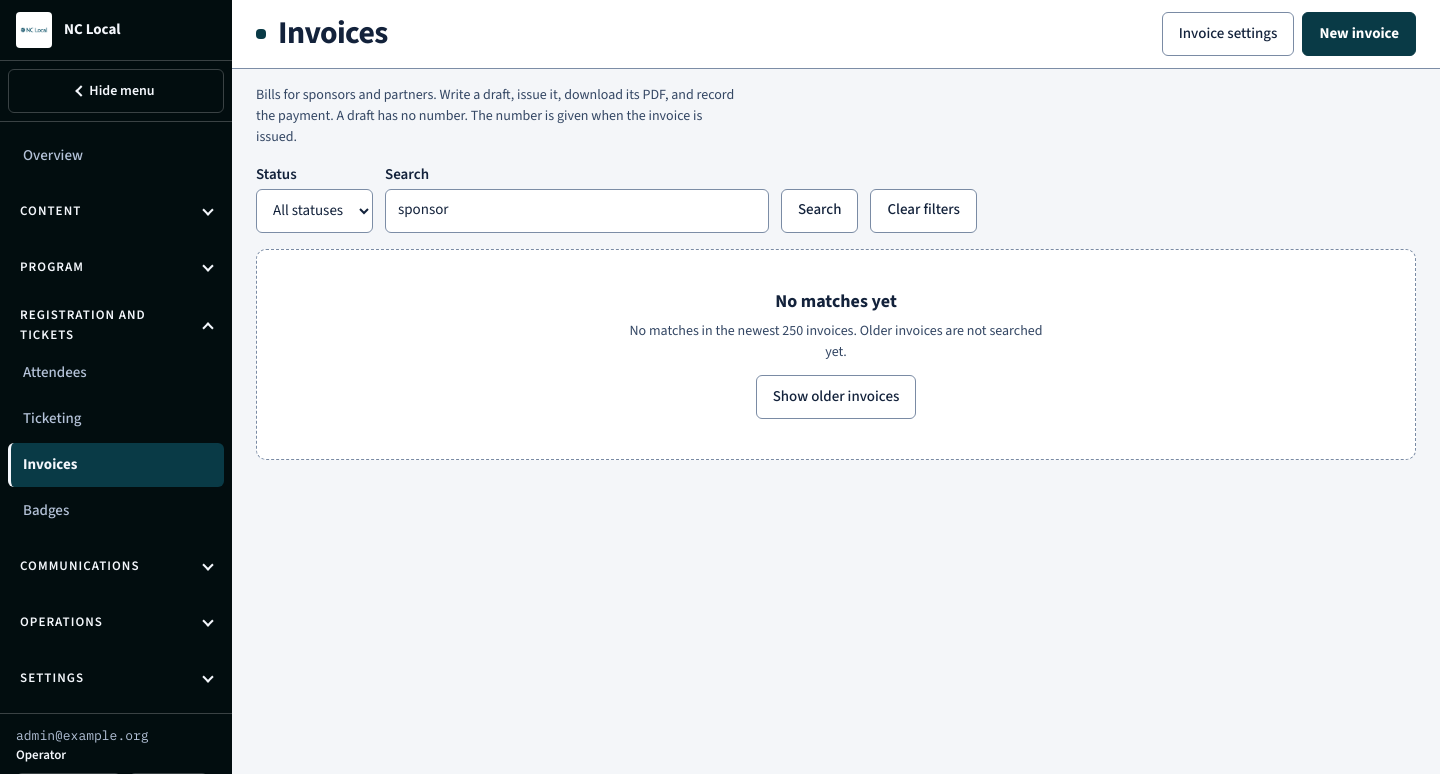
Test: the invoice list pages › keeps paging when a scan found no match but more invoices remain
This screenshot has width=1440, height=774.
Expected: the text "No matches in the newest 250 invoices" is shown, [630,321,1042,362]
Click the button "Show older invoices": {"x": 836, "y": 397} [756,375,916,419]
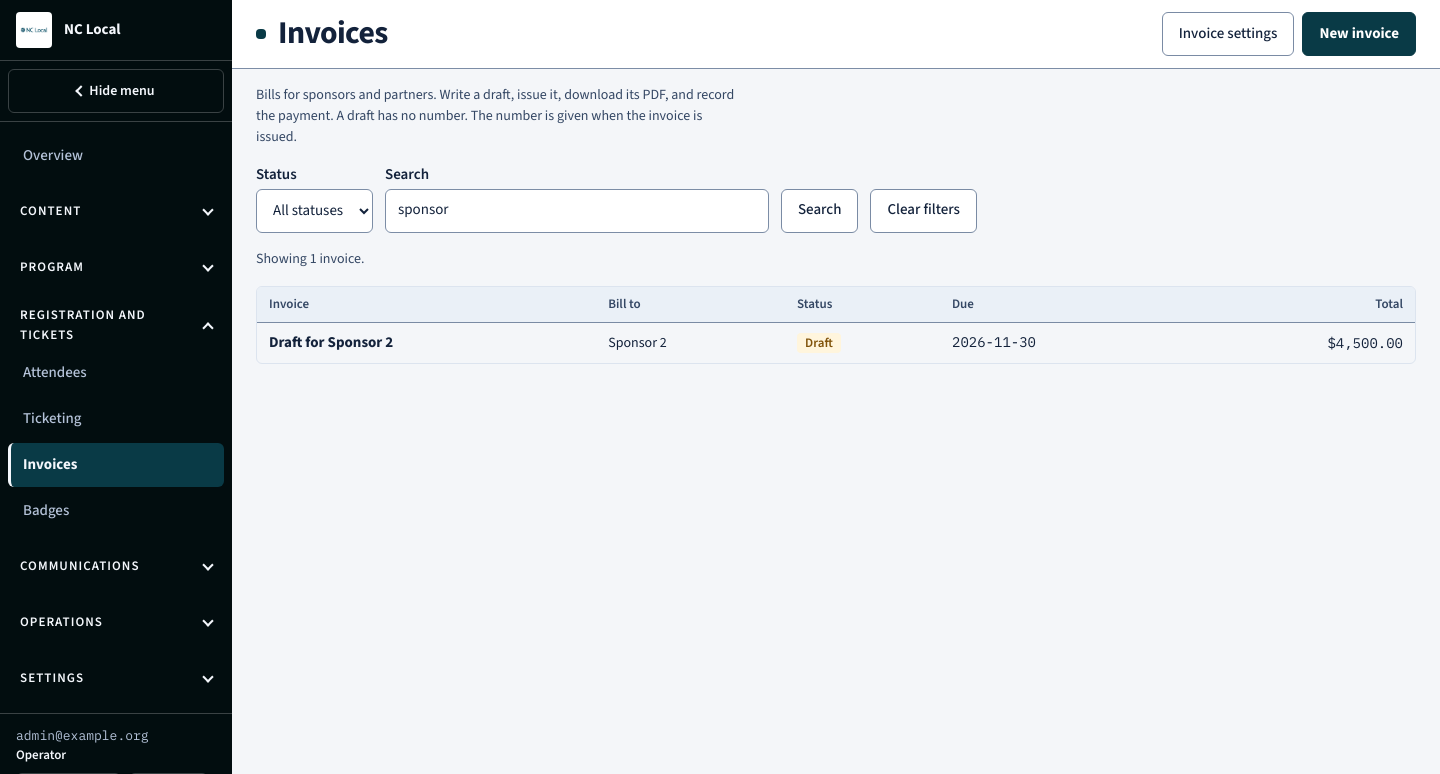
Result: the link "Draft for Sponsor 2" is shown at [269,331,393,355]
